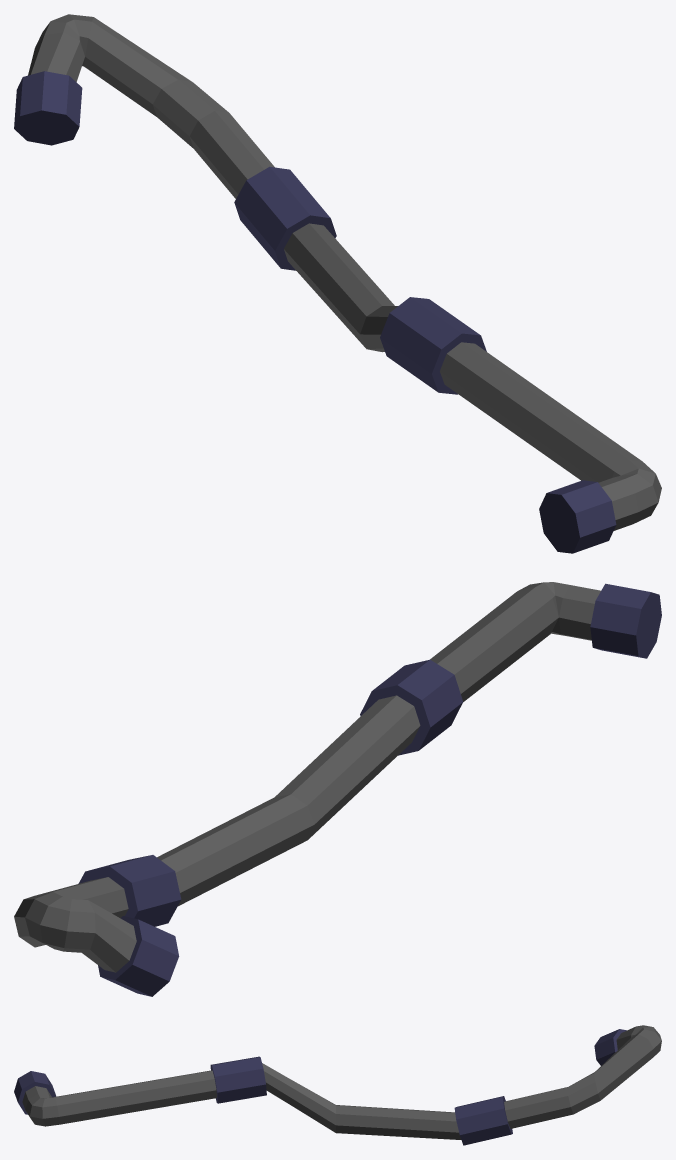
File: Pipeline.002.glb
3 views of the same model, one above another, from view 1: azimuth 30°, elevation 25°; view 2: azimuth 150°, elevation 25°; view 3: azimuth 270°, elevation 25° (orthographic). The views are drawn at different scales.
Parts seen in each view (by area): view 1: Pipeline.001; view 2: Pipeline.001; view 3: Pipeline.001.
Part boxes in pixels (box(x1,y1,x2,y2)): Pipeline.001: box(14, 14, 661, 553); Pipeline.001: box(14, 582, 661, 996); Pipeline.001: box(14, 1025, 661, 1145).
Size of the model in its own units: 4.55 by 3.68 by 23.03.
